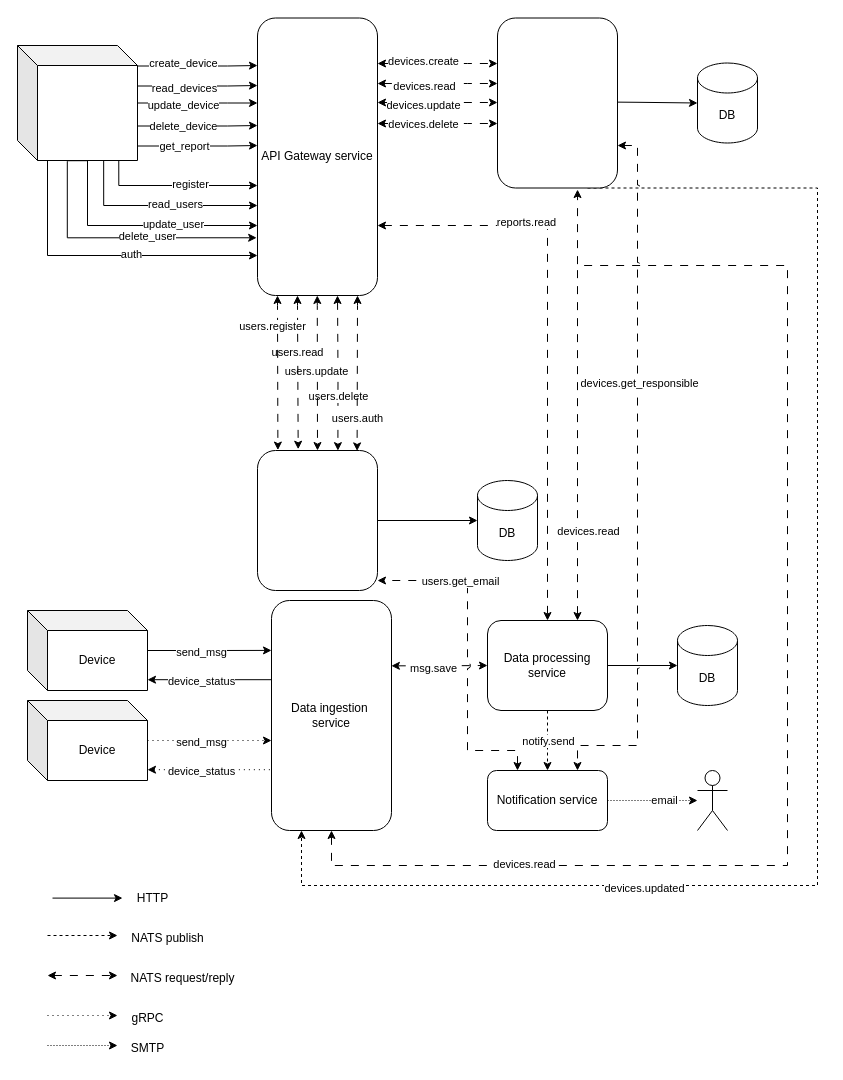
Some shapes in this 843 by 1080 pixel diagram are drawn without their labels. The centre of each missing label's shape, as x and y in pixels:
"Actor" goes at [712,800].
"Auth service" goes at [317,520].
"Device management service" goes at [557,102].
"User" goes at [77,102].
